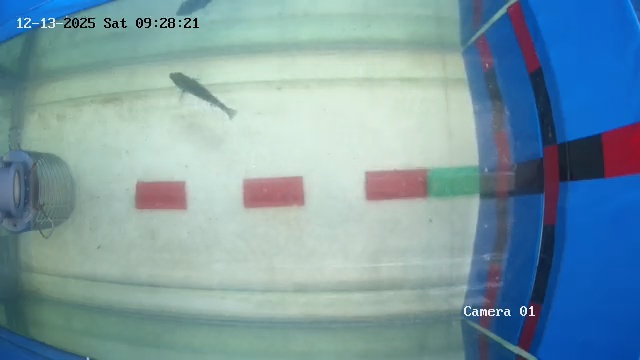fish: (172, 68, 233, 132)
